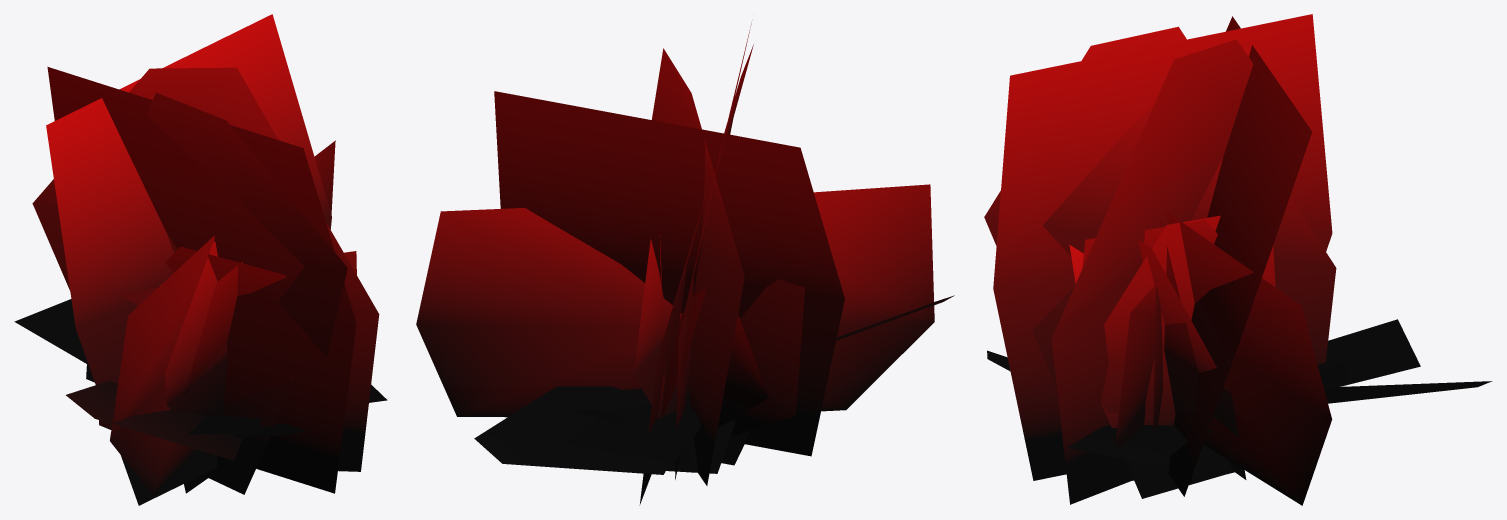
Rendered from TVE_Meadow_Grass_01_Var1.fbx.
3 views of the same model, side by side, from view 1: azimuth 30°, elevation 25°; view 2: azimuth 150°, elevation 25°; view 3: azimuth 270°, elevation 25° (orthographic). The views are drawn at different scales.
Parts seen in each view (by area): view 1: Meadow_Grass_01_Var1_LOD0; view 2: Meadow_Grass_01_Var1_LOD0; view 3: Meadow_Grass_01_Var1_LOD0.
Part boxes in pixels (x1,y1,x2,y2): Meadow_Grass_01_Var1_LOD0: (14, 14, 387, 505); Meadow_Grass_01_Var1_LOD0: (416, 23, 954, 505); Meadow_Grass_01_Var1_LOD0: (984, 14, 1492, 505).
Size of what is drawn, in the model's own units: 30.51 by 30.02 by 32.49.
